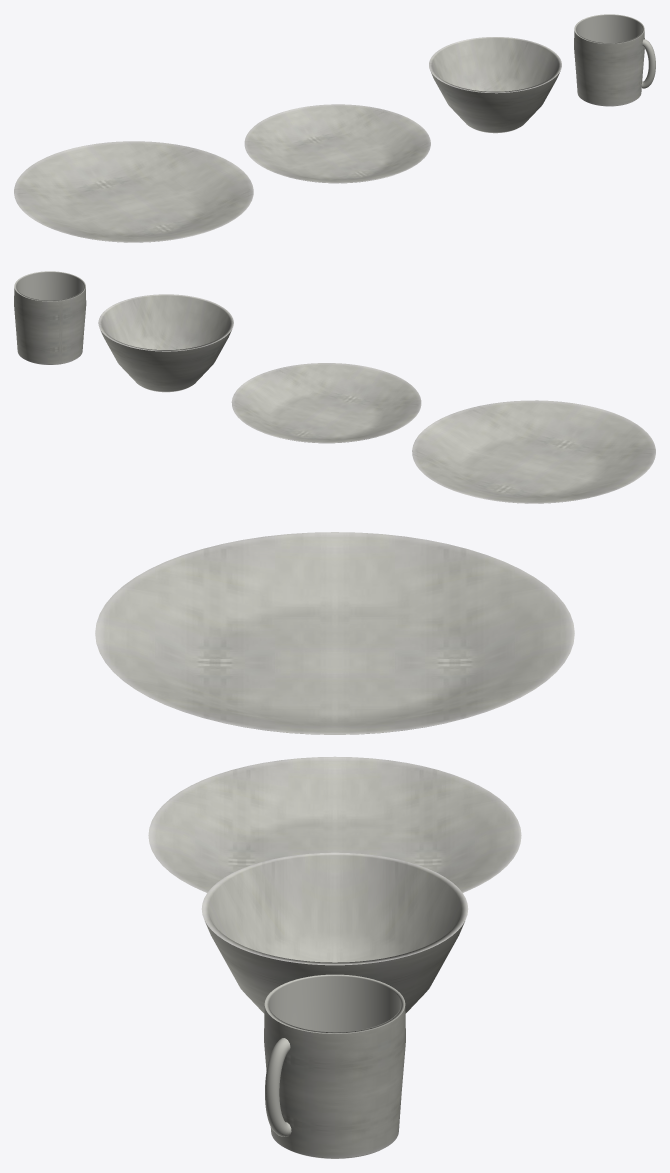
The model's file is EST-04.glb.
The picture shows the model from 3 angles, top to bottom: view 1: azimuth 30°, elevation 25°; view 2: azimuth 150°, elevation 25°; view 3: azimuth 270°, elevation 25°; orthographic projection. The views are drawn at different scales.
Bounding box in the file's own units: 0.7933 × 0.08 × 0.27.
Materials: 9 (7 with a texture image).
